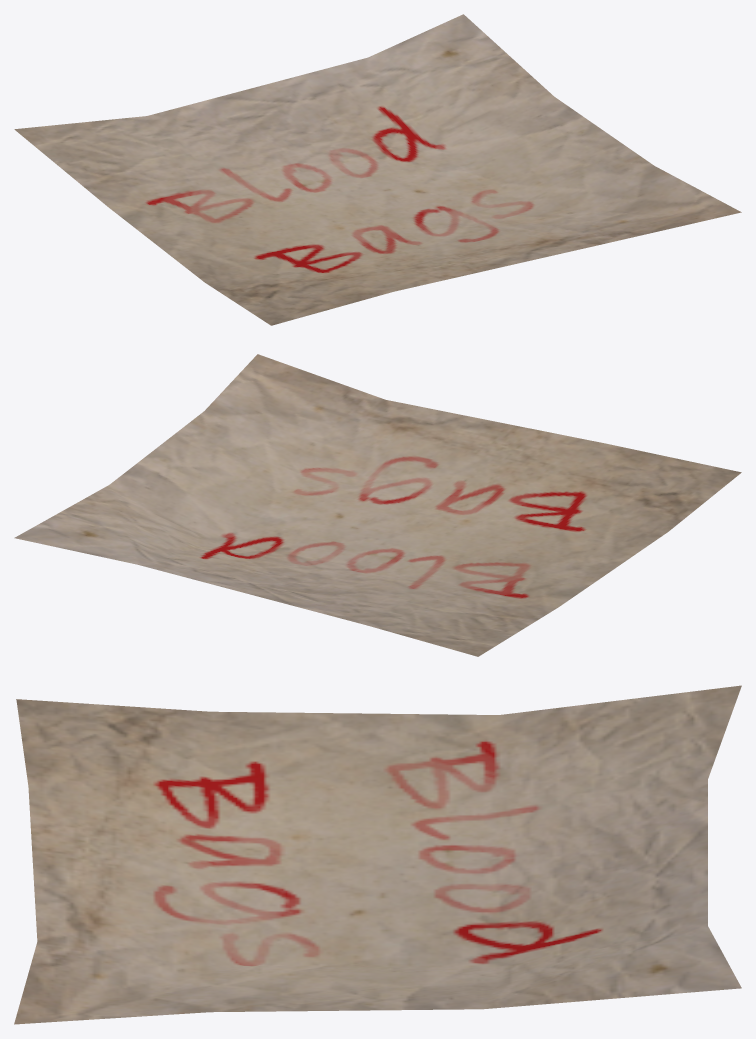
File: BloodBag.FBX
The picture shows the model from 3 angles, top to bottom: view 1: azimuth 30°, elevation 25°; view 2: azimuth 150°, elevation 25°; view 3: azimuth 270°, elevation 25°; orthographic projection. The views are drawn at different scales.
Visible parts, largest first — view 1: BloodBag; view 2: BloodBag; view 3: BloodBag.
Part boxes in pixels (x1,y1,x2,y2): BloodBag: [14, 14, 741, 325]; BloodBag: [14, 354, 741, 656]; BloodBag: [14, 685, 741, 1024].
Bounding box in the file's own units: 17.58 × 1.33 × 16.63.
